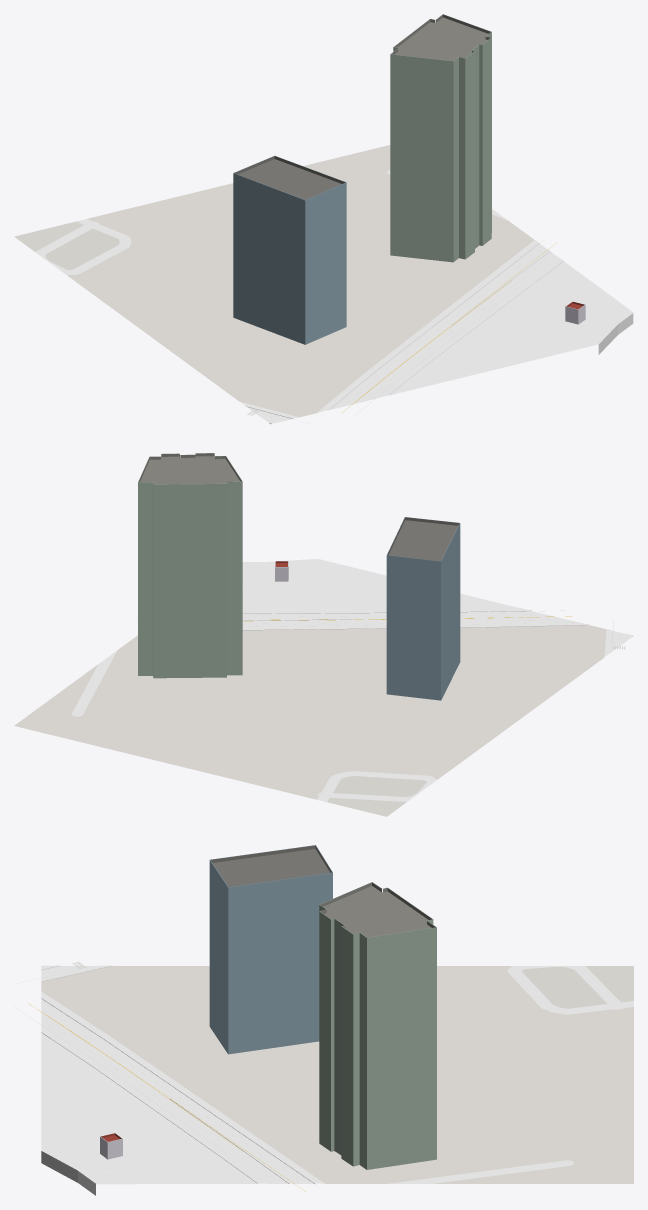
3 views of the same model, one above another, from view 1: azimuth 30°, elevation 25°; view 2: azimuth 150°, elevation 25°; view 3: azimuth 270°, elevation 25° (orthographic). The views are drawn at different scales.
Visible parts, largest first — view 1: ground, walls, grass, asphalt, roofs, sidewalk, concrete, markings; view 2: ground, walls, grass, asphalt, roofs, sidewalk, concrete; view 3: ground, walls, grass, asphalt, roofs, sidewalk, concrete, markings, coast, sand.
Boxes of the visible parts, x1,y1,x2,y2 form: ground: [14, 145, 534, 424]; walls: [233, 32, 585, 344]; grass: [394, 261, 617, 394]; asphalt: [35, 170, 558, 422]; roofs: [233, 14, 584, 309]; sidewalk: [240, 240, 563, 423]; concrete: [389, 278, 600, 395]; markings: [247, 240, 556, 424]; ground: [14, 625, 633, 816]; walls: [138, 481, 460, 700]; grass: [242, 559, 514, 610]; asphalt: [71, 611, 626, 802]; roofs: [138, 453, 459, 567]; sidewalk: [242, 608, 632, 656]; concrete: [242, 567, 518, 610]; ground: [41, 966, 633, 1183]; walls: [100, 860, 436, 1169]; grass: [41, 1036, 257, 1183]; asphalt: [41, 966, 633, 1183]; roofs: [100, 845, 436, 1142]; sidewalk: [41, 965, 324, 1183]; concrete: [41, 1032, 230, 1183]; markings: [15, 961, 318, 1191]; coast: [41, 1151, 95, 1195]; sand: [79, 1170, 136, 1184].
Size of what is drawn, in the model's own units: 199 by 98.8 by 227.
